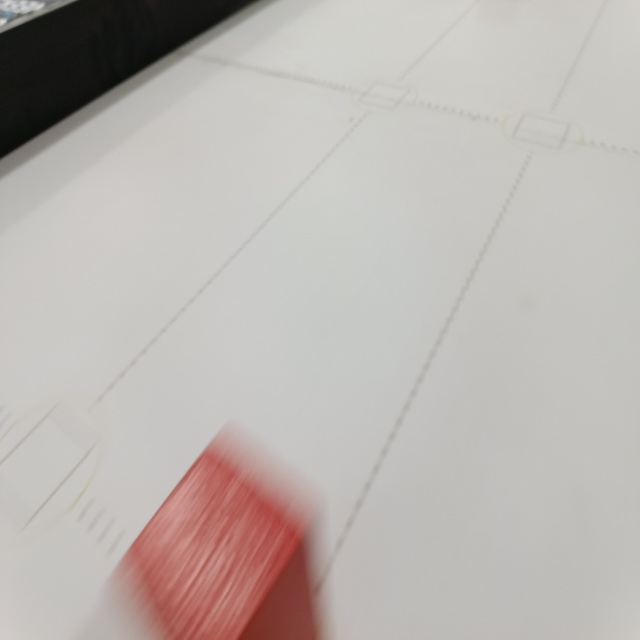red rectangular prism: (115, 422, 331, 640)
